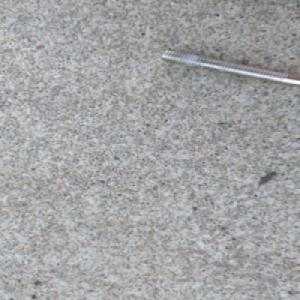ClampPart: (156, 49, 300, 91)
